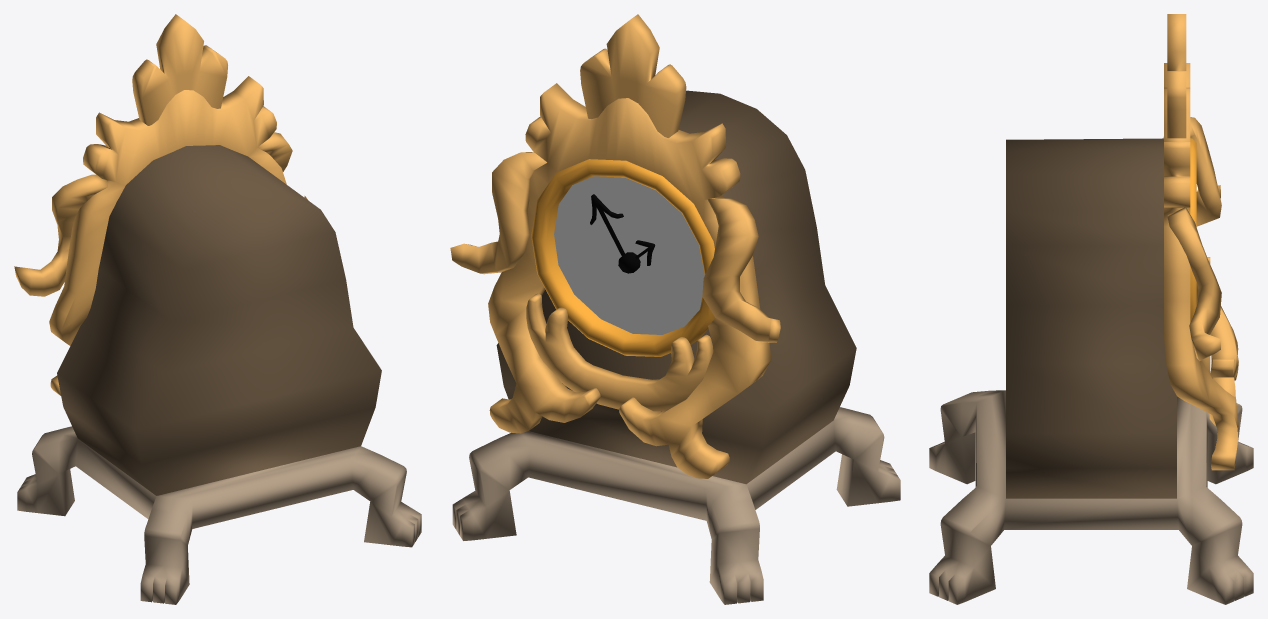
The model's file is props_LittleClock.fbx.
The picture shows the model from 3 angles, left to right: view 1: azimuth 30°, elevation 25°; view 2: azimuth 150°, elevation 25°; view 3: azimuth 270°, elevation 25°; orthographic projection. The views are drawn at different scales.
Parts seen in each view (by area): view 1: Cube.014; view 2: Cube.014; view 3: Cube.014.
Boxes of the visible parts, bbox=[...] form: Cube.014: bbox=[14, 14, 421, 604]; Cube.014: bbox=[450, 14, 900, 604]; Cube.014: bbox=[929, 14, 1253, 604].
Size of the model in its own units: 0.5957 by 0.5263 by 0.9245.
